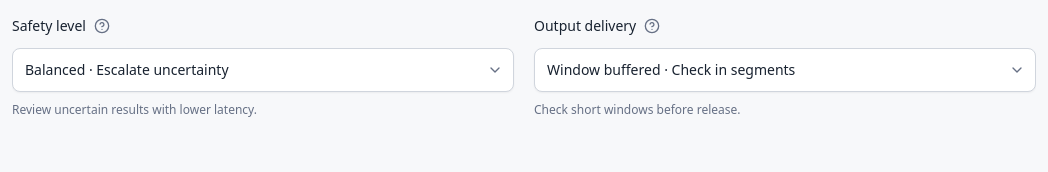
Test case: RuntimePostureFields › opens help on click for touch and keyboard users
The image size is (1048, 172).
Step 1. Click the button named "How safety level works" → (102,26), box [90,14,114,38]
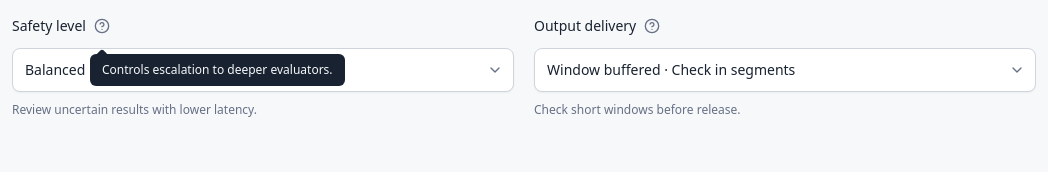
Result: the tooltip reads "Controls escalation to deeper evaluators." at [102,61,333,78]
